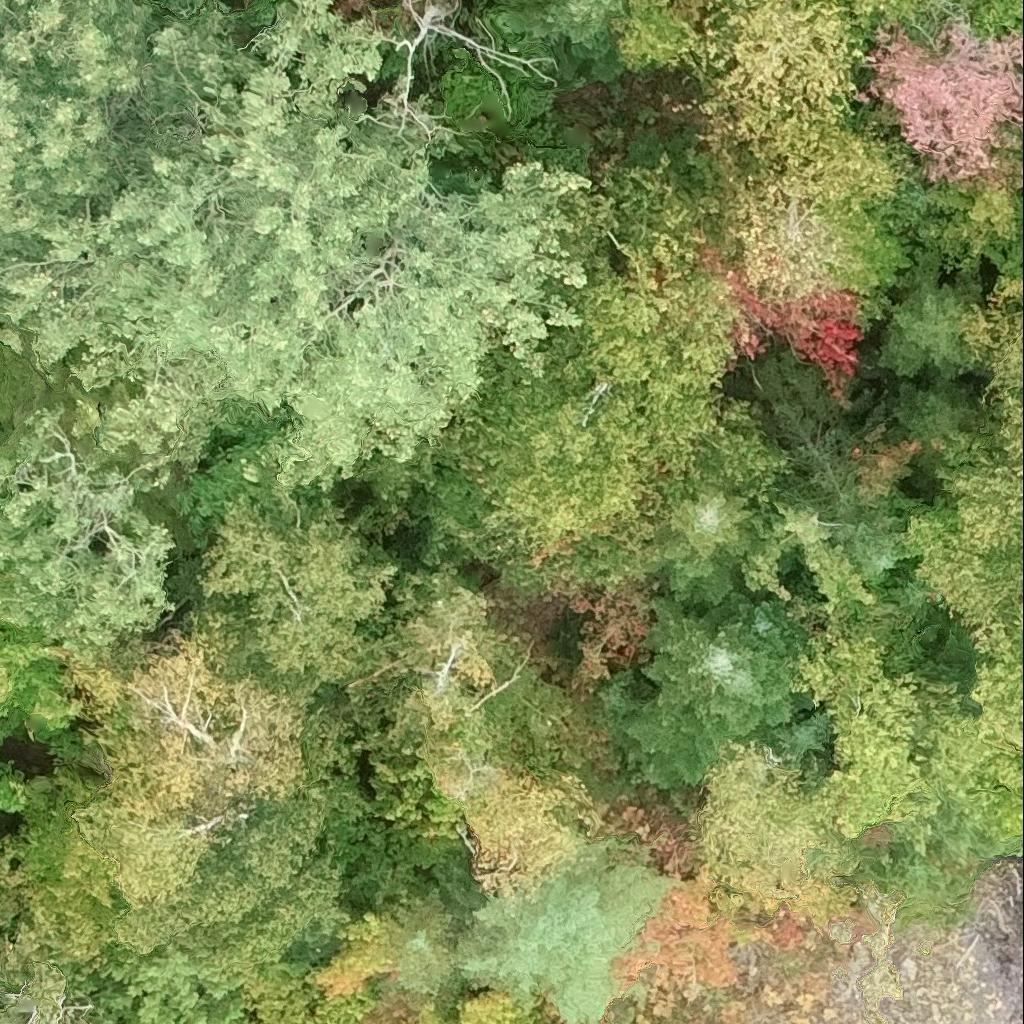crown: (0, 0, 591, 494), (448, 147, 746, 550), (0, 0, 265, 308), (43, 611, 316, 908), (113, 710, 361, 982), (788, 627, 1023, 855), (893, 277, 1023, 628), (197, 480, 400, 704), (0, 398, 176, 653), (604, 592, 830, 790), (689, 116, 917, 308), (455, 834, 677, 1023), (0, 332, 194, 497), (425, 739, 601, 902), (0, 768, 127, 987), (858, 17, 1023, 183), (684, 0, 864, 146), (689, 739, 848, 902), (859, 791, 1023, 920), (238, 912, 397, 1023), (483, 669, 621, 781), (643, 484, 768, 605), (920, 148, 1023, 281), (377, 890, 471, 996), (0, 615, 78, 740), (367, 759, 467, 842), (969, 603, 1023, 756), (613, 0, 726, 63), (0, 959, 93, 1023), (502, 0, 622, 49), (395, 988, 541, 1023), (819, 0, 934, 26), (0, 758, 27, 814), (349, 0, 365, 8), (249, 1022, 255, 1023)
